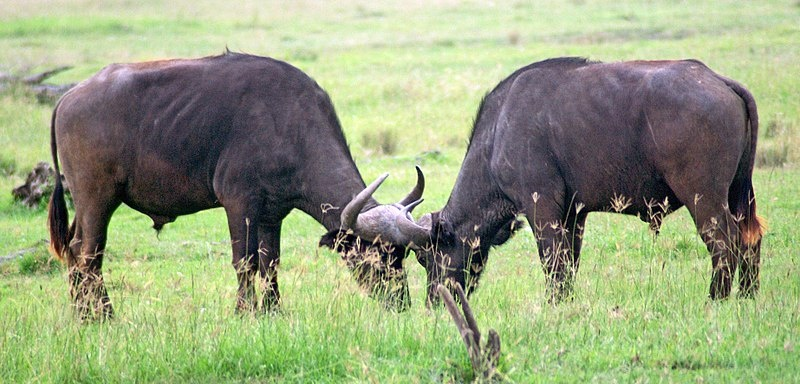buffalo: (43, 51, 420, 324), (393, 56, 764, 302)
